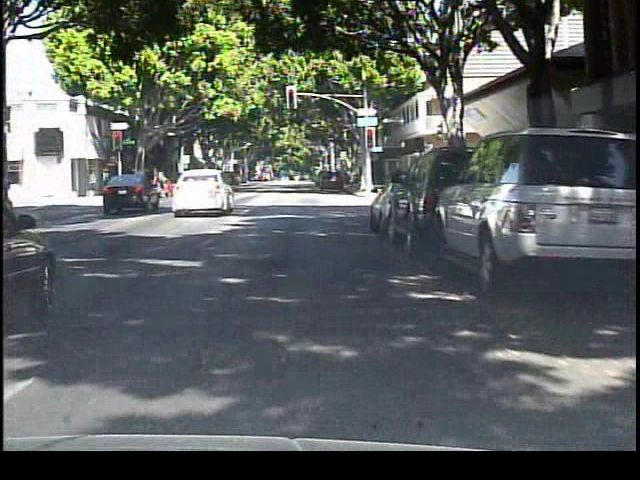person: (155, 164, 172, 200)
